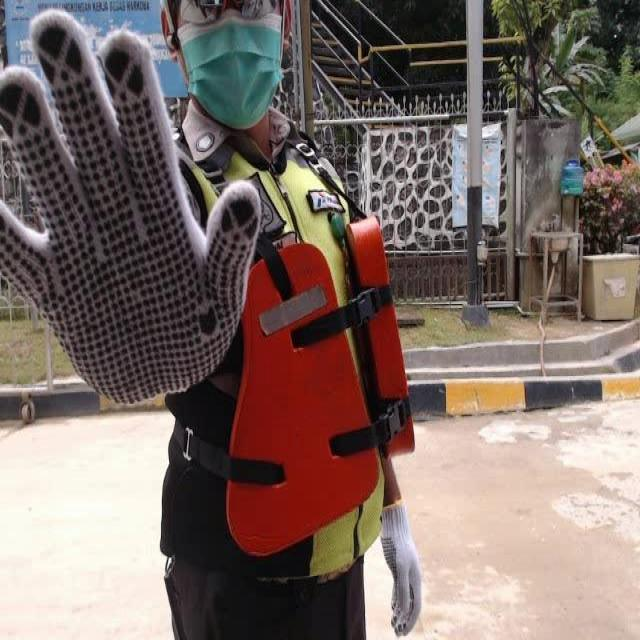Vest: (227, 215, 422, 556)
